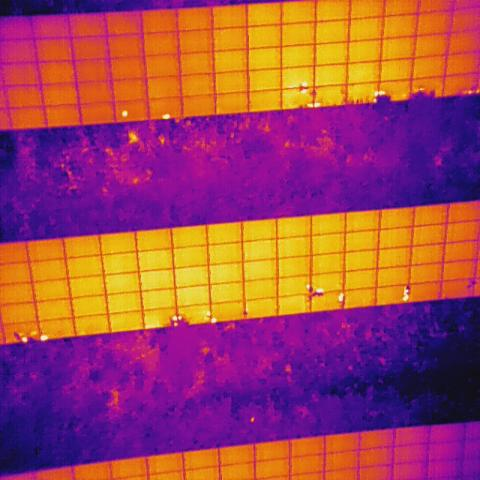fault: (306, 101, 322, 108), (315, 285, 326, 295), (300, 80, 307, 95), (373, 90, 386, 98), (120, 108, 130, 118), (403, 286, 409, 302), (40, 333, 49, 343), (161, 112, 172, 120), (338, 290, 344, 303), (173, 314, 182, 322), (210, 315, 217, 324), (20, 336, 28, 343), (29, 330, 38, 336), (205, 308, 210, 318), (305, 282, 311, 290), (373, 97, 378, 105), (465, 90, 473, 95), (418, 86, 424, 92), (173, 322, 178, 329), (475, 88, 480, 94)
